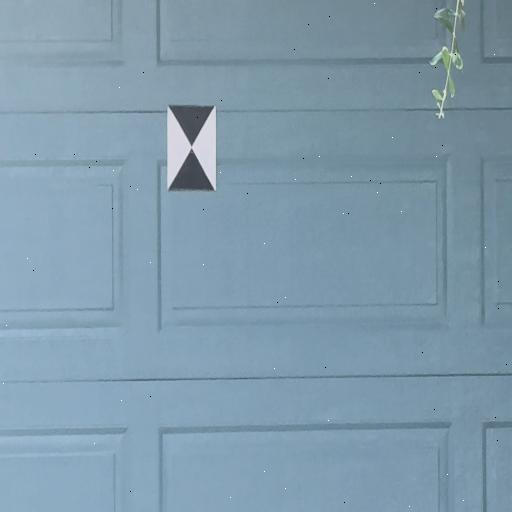target: (166, 105, 214, 191)
